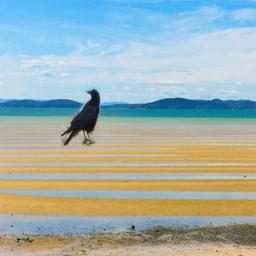Crow: (61, 86, 101, 147)
